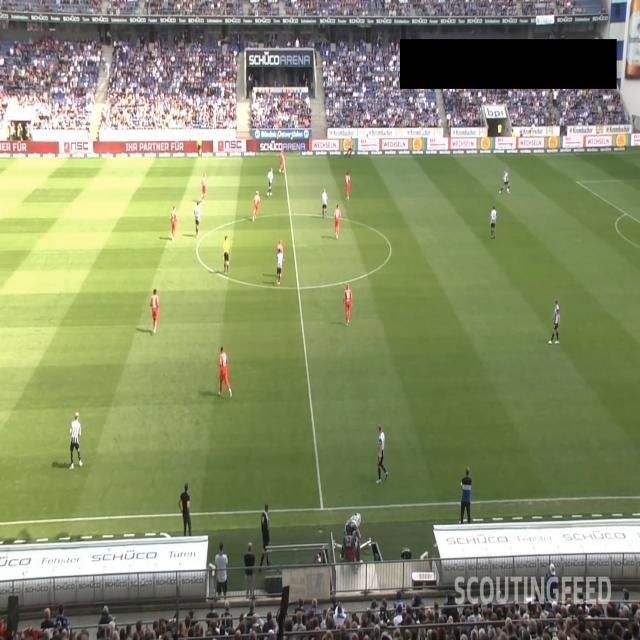ball: (506, 187, 509, 193)
